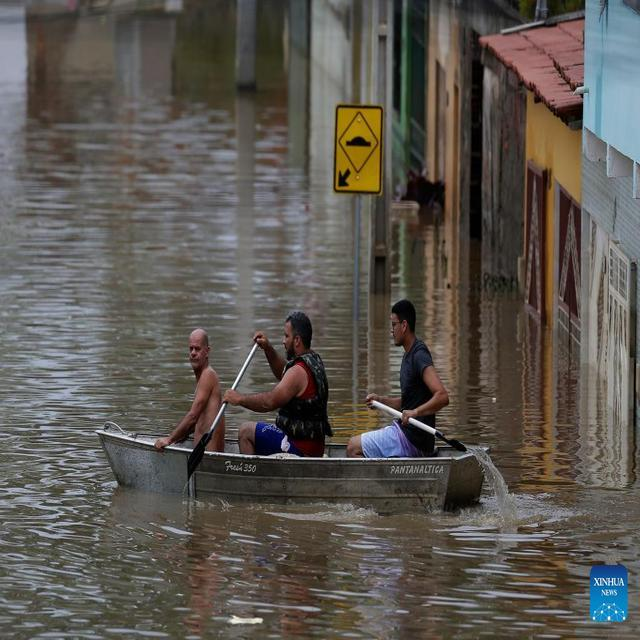Person-RiskLevel3: (349, 294, 458, 459), (224, 306, 334, 463), (154, 326, 233, 453)
